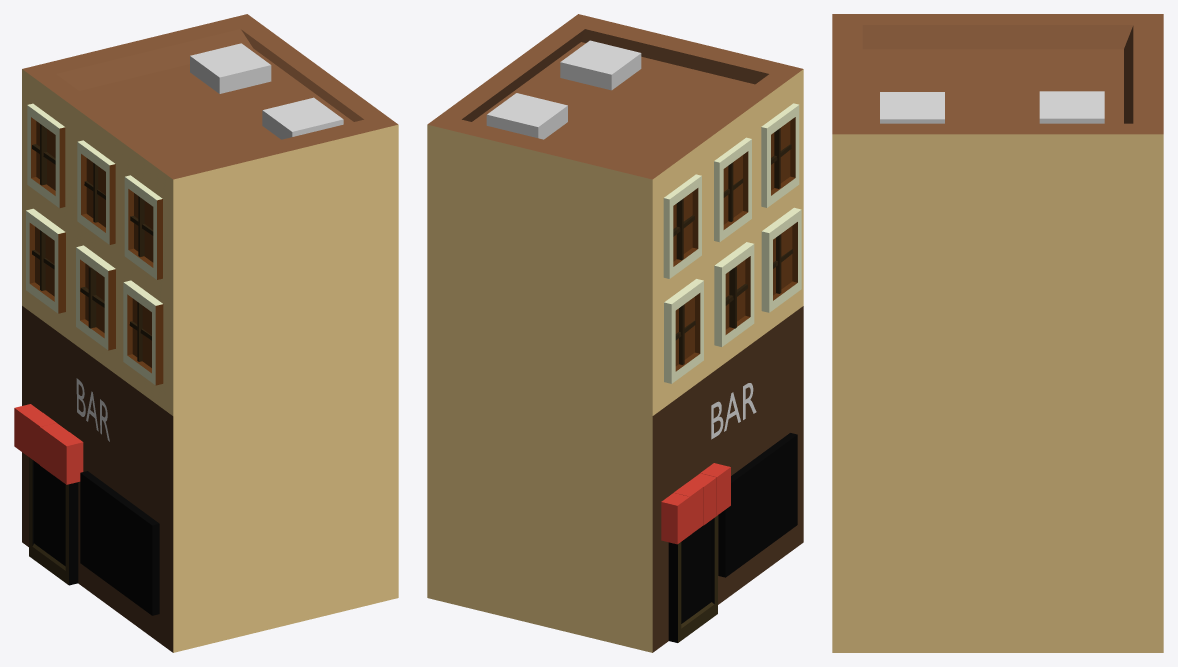
File: Bar.fbx
3 views of the same model, side by side, from view 1: azimuth 30°, elevation 25°; view 2: azimuth 150°, elevation 25°; view 3: azimuth 270°, elevation 25° (orthographic). The views are drawn at different scales.
Parts seen in each view (by area): view 1: Cube, Cubo.036, Cubo.026, Cubo.007, Cubo.005, Cubo.003, Cubo.006, Cubo.004, Cubo, Cubo.002, Cubo.001, Cubo.038 (+4 smaller); view 2: Cube, Cubo.036, Cubo.026, Cubo.007, Cubo.005, Cubo.006, Cubo.004, Cubo.003, Cubo.002, Cubo.001, Cubo, Cubo.032 (+4 smaller); view 3: Cube, Cubo, Cubo.001.
Boxes of the visible parts, left/top/right/bottom form: Cube: left=22, top=14, right=398, bottom=652; Cubo.036: left=80, top=471, right=159, bottom=615; Cubo.026: left=29, top=457, right=78, bottom=585; Cubo.007: left=123, top=280, right=163, bottom=385; Cubo.005: left=26, top=208, right=65, bottom=313; Cubo.003: left=77, top=140, right=115, bottom=244; Cubo.006: left=76, top=245, right=115, bottom=350; Cubo.004: left=124, top=175, right=162, bottom=279; Cubo: left=190, top=43, right=271, bottom=93; Cubo.002: left=27, top=103, right=65, bottom=208; Cubo.001: left=262, top=97, right=343, bottom=139; Cubo.038: left=52, top=432, right=83, bottom=484; Cube: left=427, top=14, right=803, bottom=652; Cubo.036: left=718, top=433, right=797, bottom=577; Cubo.026: left=668, top=515, right=717, bottom=642; Cubo.007: left=761, top=207, right=801, bottom=312; Cubo.005: left=664, top=279, right=703, bottom=383; Cubo.006: left=714, top=242, right=754, bottom=346; Cubo.004: left=761, top=103, right=799, bottom=207; Cubo.003: left=714, top=137, right=751, bottom=242; Cubo.002: left=663, top=174, right=701, bottom=278; Cubo.001: left=560, top=40, right=641, bottom=90; Cubo: left=486, top=93, right=567, bottom=139; Cubo.032: left=661, top=493, right=689, bottom=544; Cube: left=832, top=14, right=1163, bottom=652; Cubo: left=1039, top=91, right=1104, bottom=123; Cubo.001: left=880, top=92, right=944, bottom=123.
Size of the model in its own units: 941 by 1757 by 1017.
